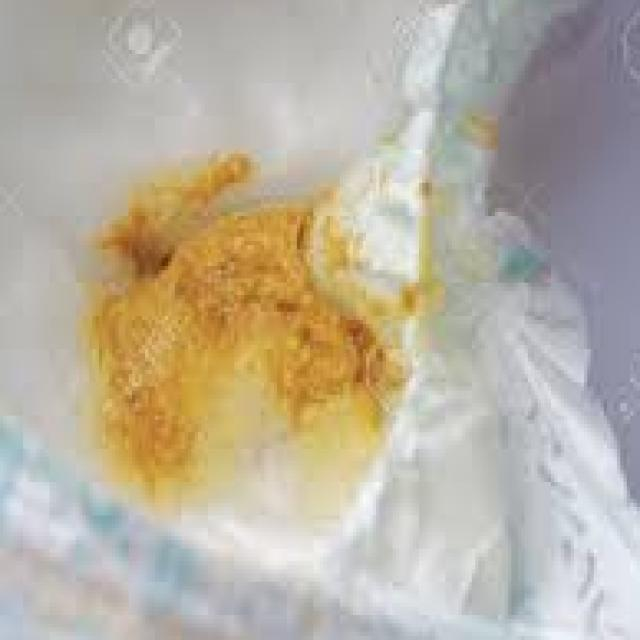organic: (19, 17, 616, 614)
